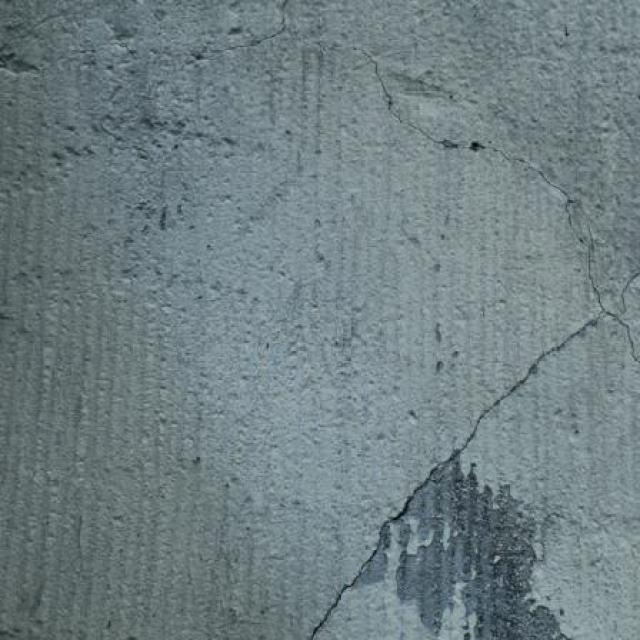diagonal crack: (303, 309, 602, 638)
